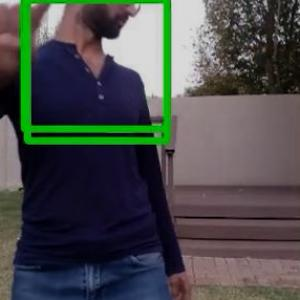takeoff-hand: (0, 0, 52, 87)
